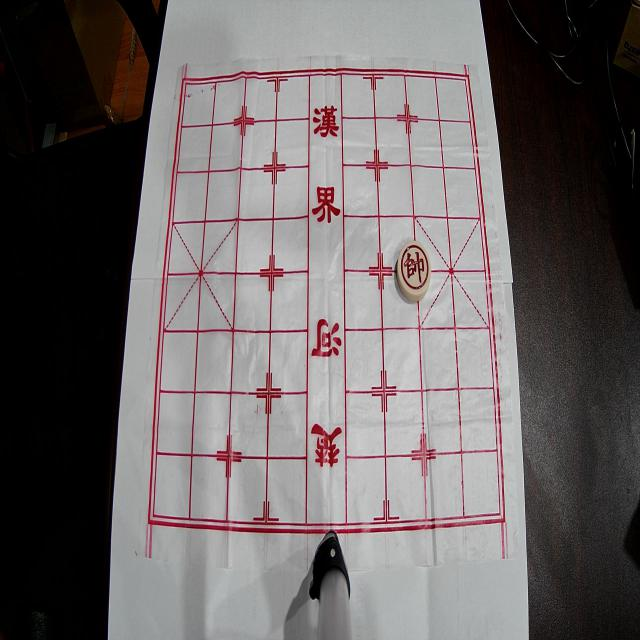red-general: (397, 241, 431, 301)
